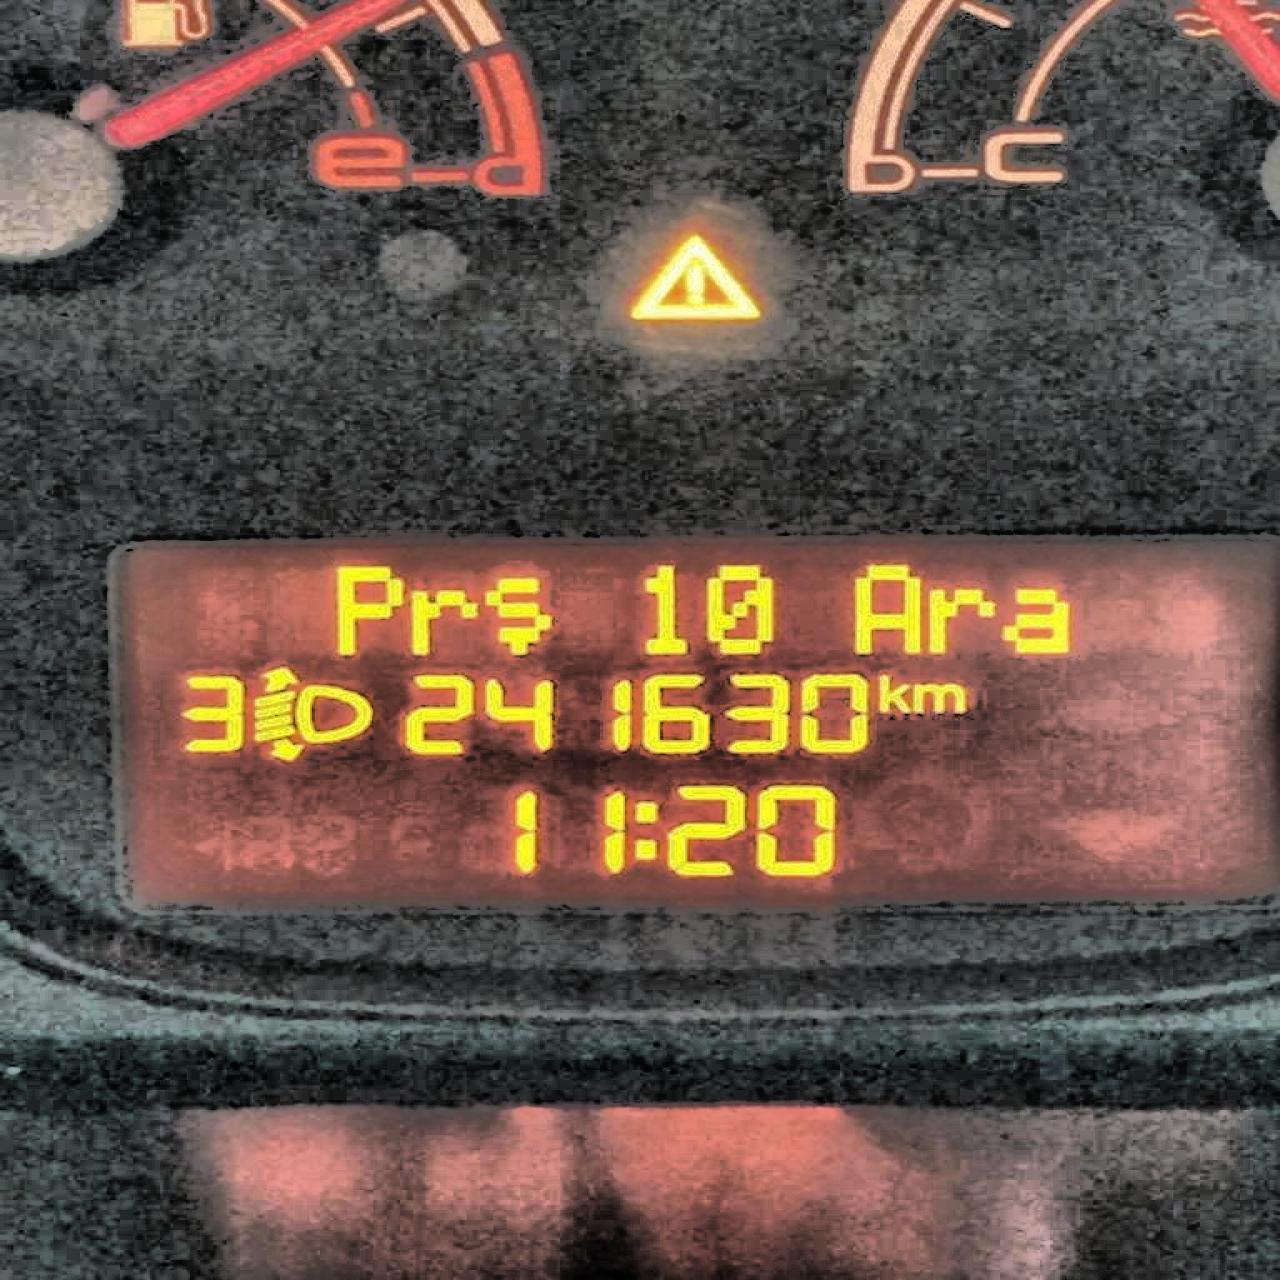0: (750, 782, 840, 878), (700, 559, 777, 659), (795, 669, 865, 755)
1: (639, 558, 692, 663), (505, 783, 545, 878), (598, 787, 632, 879), (604, 675, 632, 754)
2: (662, 781, 743, 881), (399, 672, 475, 758)
3: (716, 669, 791, 755), (177, 670, 245, 754)
4: (481, 674, 557, 753)
6: (639, 670, 712, 754)
X: (849, 559, 921, 655), (332, 563, 403, 655), (482, 572, 551, 658), (921, 581, 996, 656), (996, 586, 1068, 655), (407, 586, 475, 655), (632, 797, 659, 863), (912, 680, 965, 713), (877, 672, 911, 714)
odometer: (103, 529, 1279, 911)
